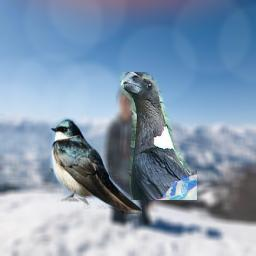Crow: (120, 72, 197, 200)
Swallow: (49, 117, 142, 214)
